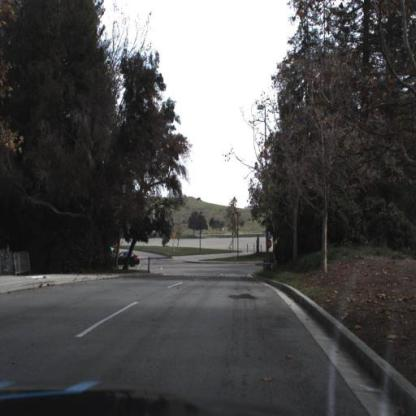car: (113, 249, 143, 271)
